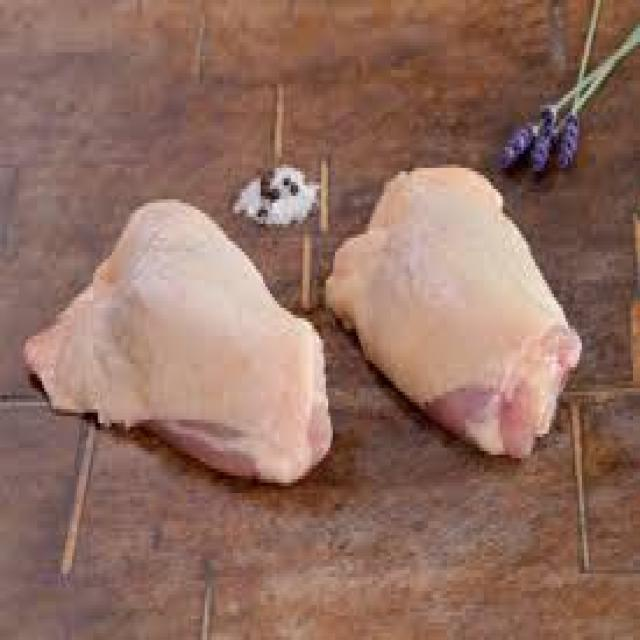thigh: (11, 168, 337, 506), (319, 151, 591, 472)
